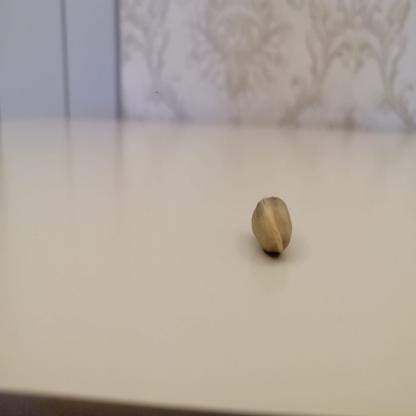pistachio: (247, 191, 303, 258)
